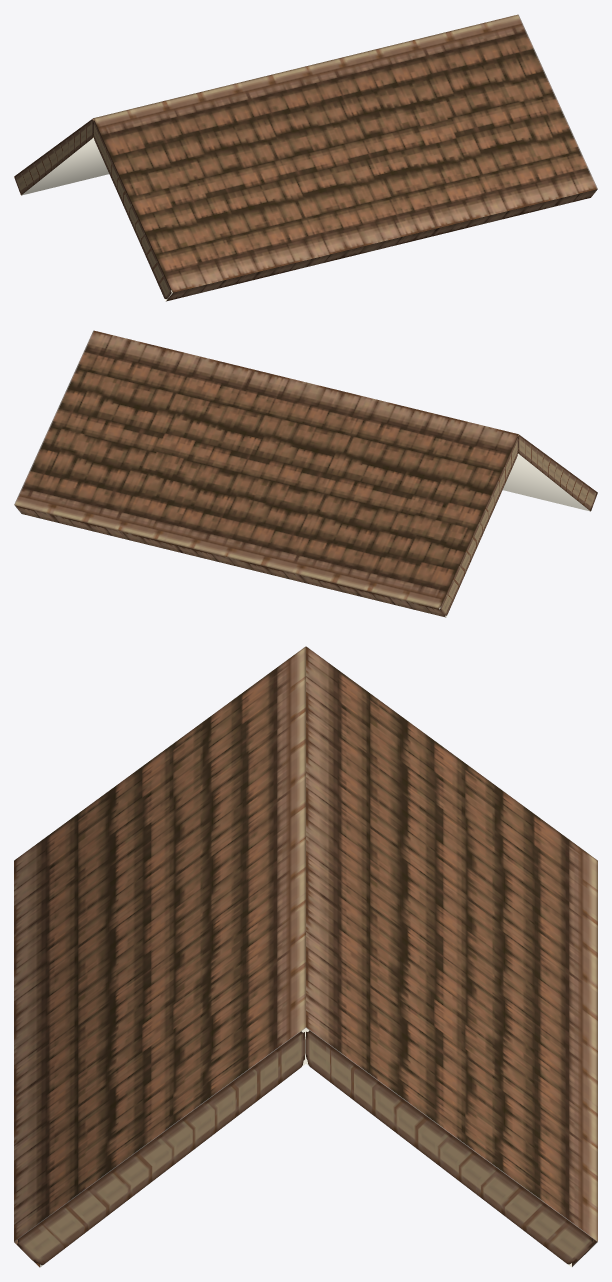
The model's file is roof_long_01.fbx.
The picture shows the model from 3 angles, top to bottom: view 1: azimuth 30°, elevation 25°; view 2: azimuth 150°, elevation 25°; view 3: azimuth 270°, elevation 25°; orthographic projection. The views are drawn at different scales.
Visible parts, largest first — view 1: roof_long_01_export; view 2: roof_long_01_export; view 3: roof_long_01_export.
Boxes of the visible parts, box(x1,y1,x2,y2) form: roof_long_01_export: box(14, 14, 597, 301); roof_long_01_export: box(14, 330, 597, 617); roof_long_01_export: box(14, 646, 597, 1267).
Bounding box in the file's own units: 182 × 53.43 × 118.
1 material, 1 textured.
